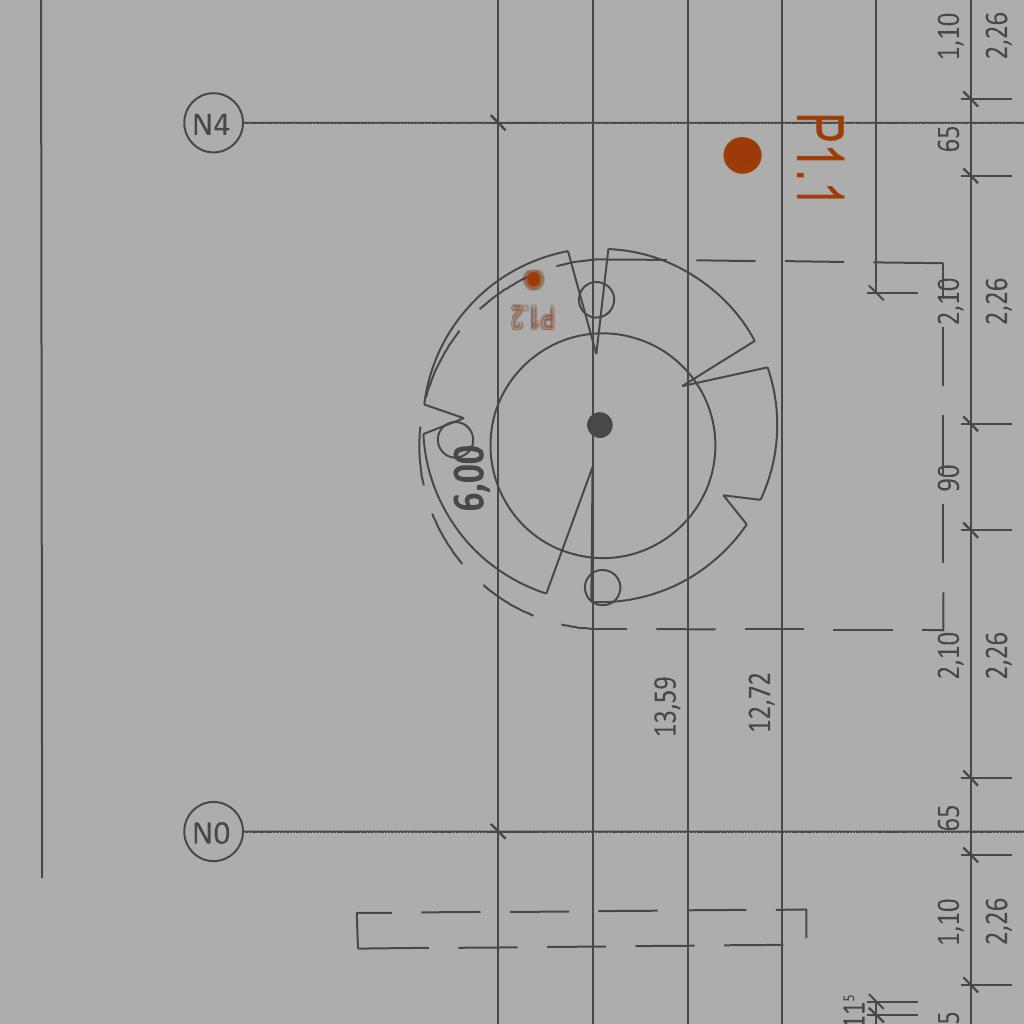Downlight_LED_Einbauleuchten_Flur: (720, 112, 848, 205), (510, 268, 556, 332)
